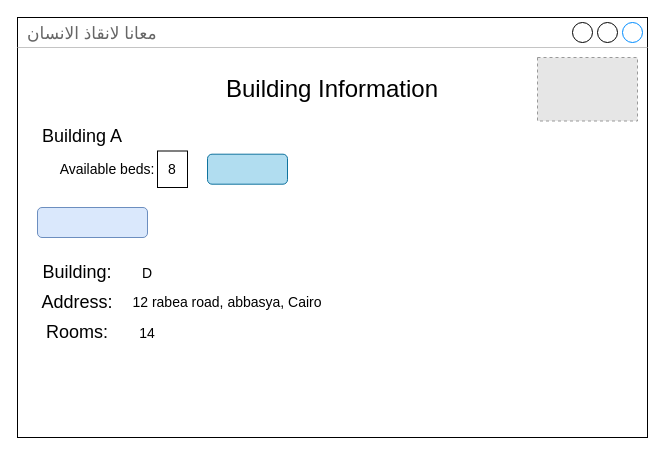
Image size: 665x455. Some labels were removed from this diagram. Grey dashed boxes stand in for pictures. The shapes that lost their labels are listed below. From the top down, each one's centre as x and y in pixels, then its label:
(247,168): Next
(92,222): Alternative
